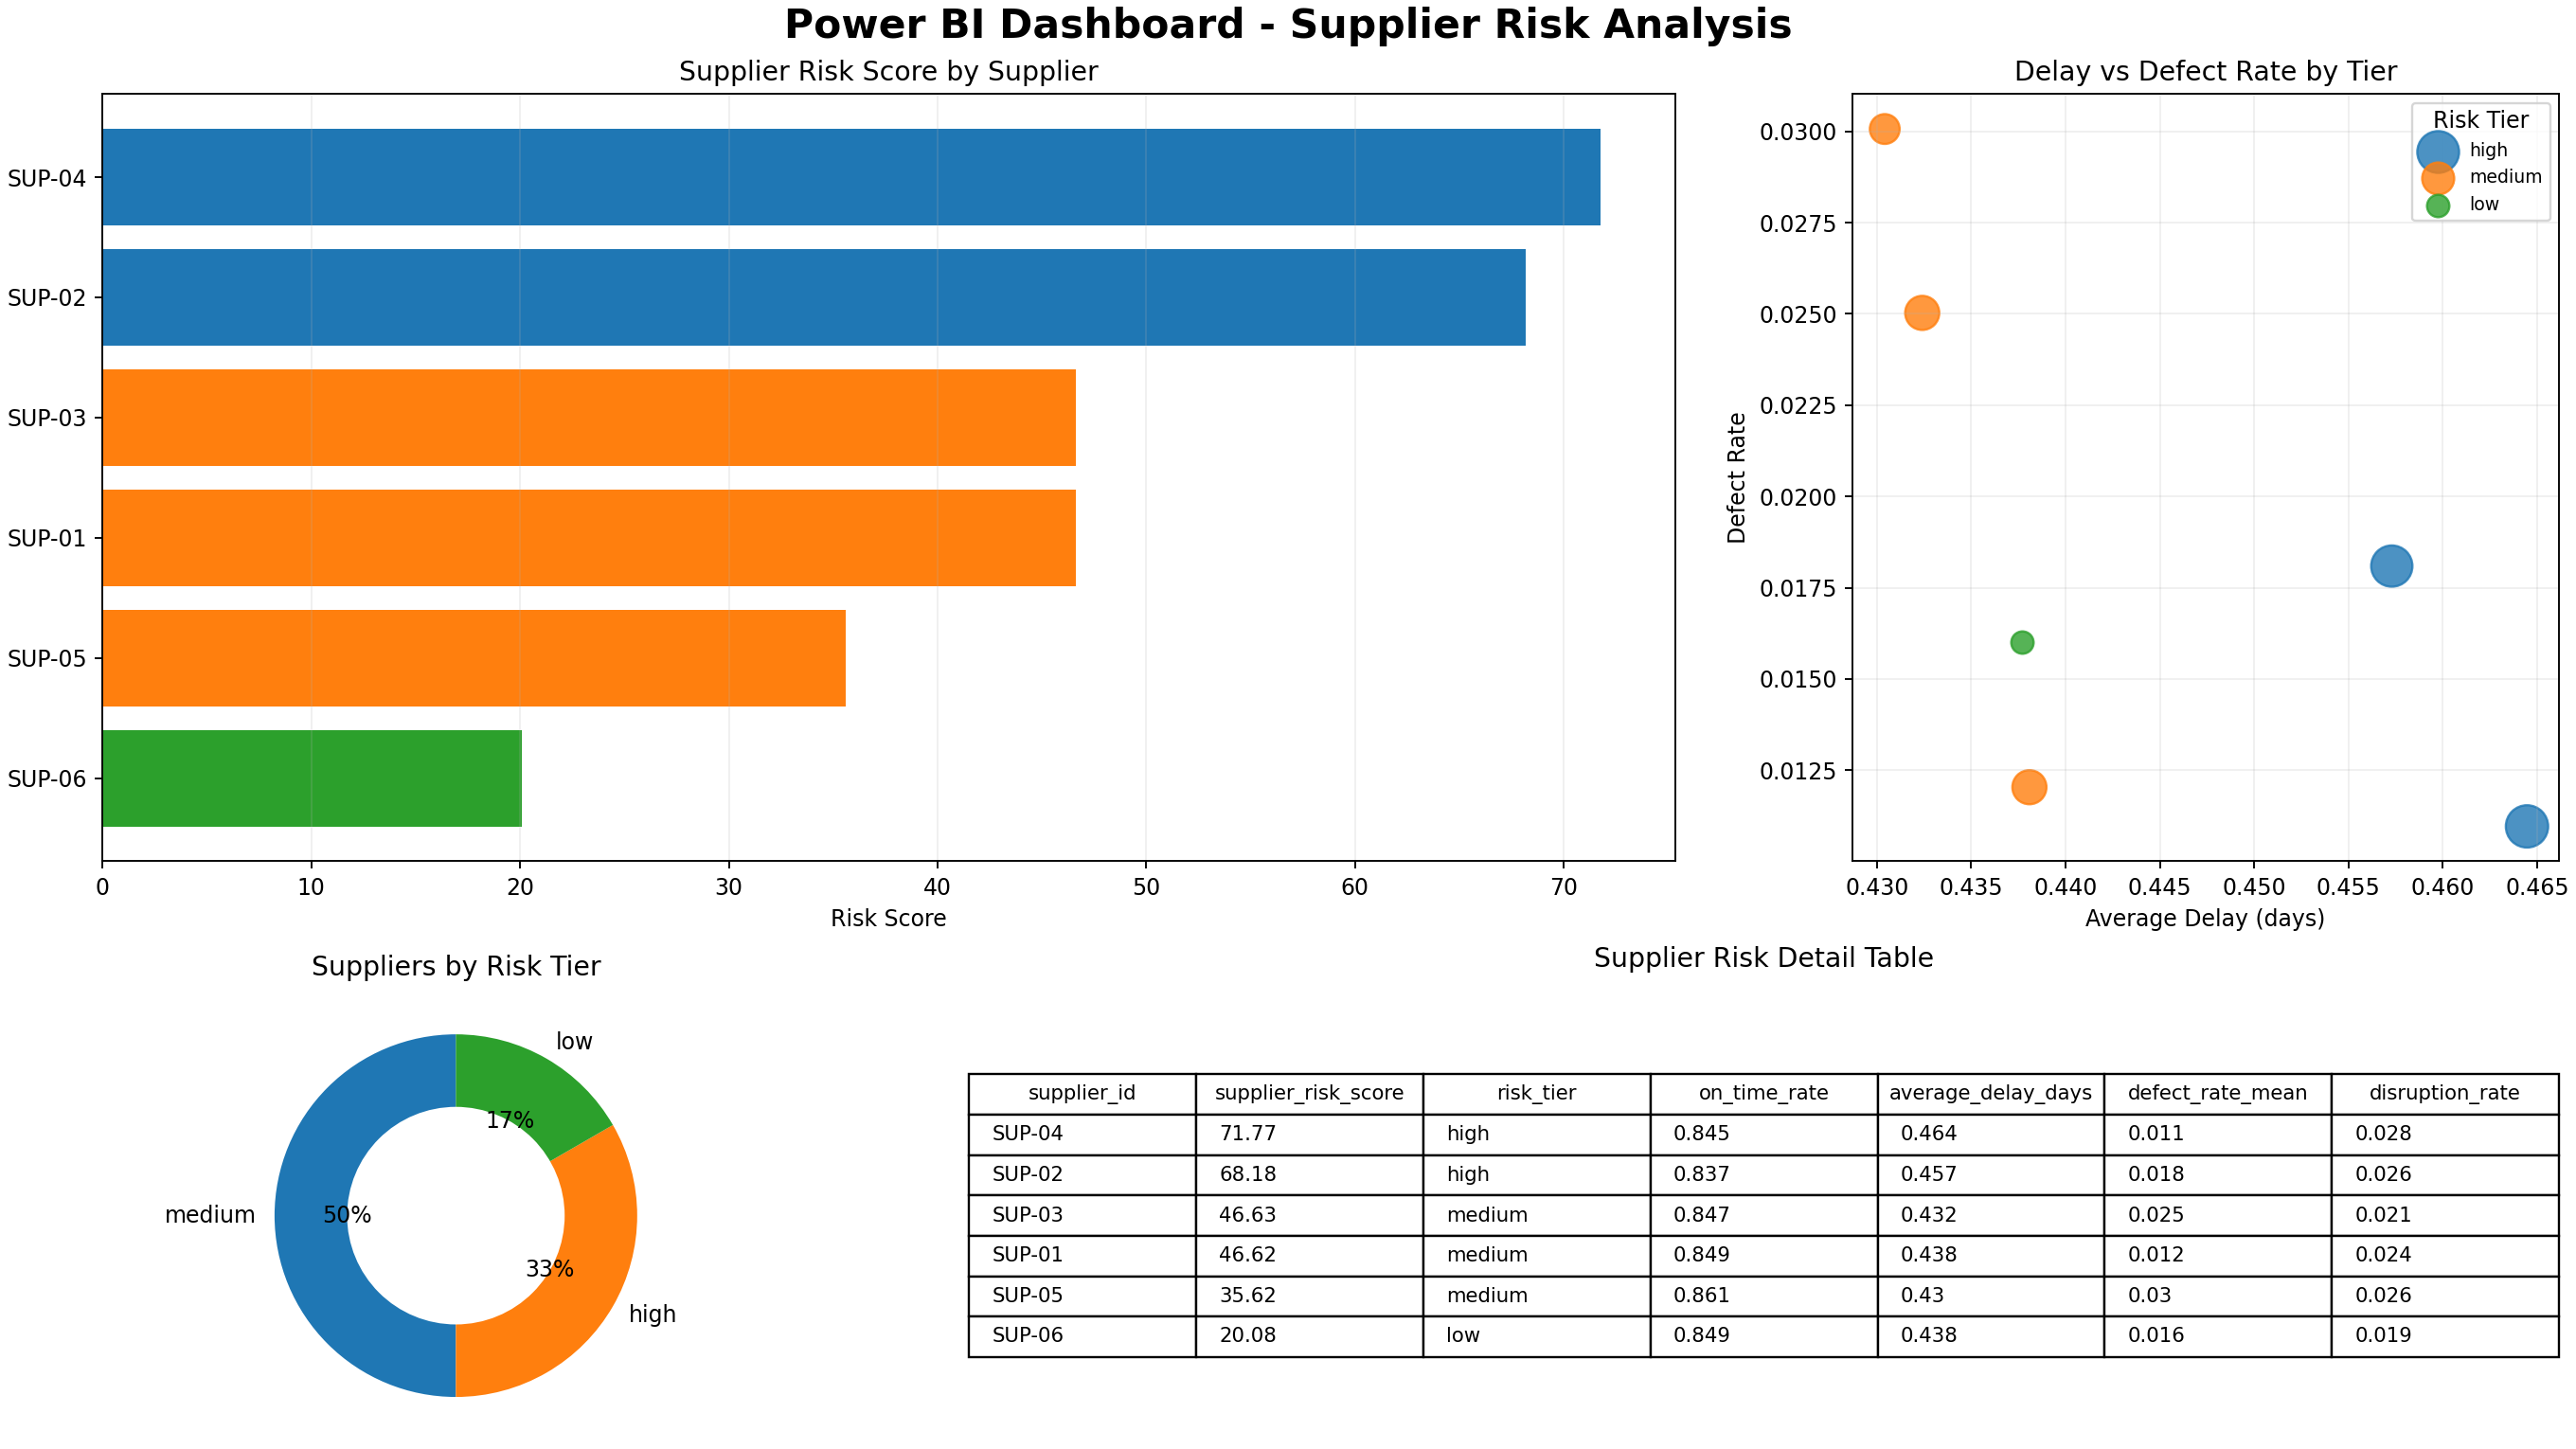

The page's visual inventory and layout, read from the dashboard file:
{"tool":"powerbi","page":{"name":"Supplier Risk Dashboard","canvas":[1280,720],"ordinal":1},"visuals":[{"type":"clusteredBarChart","fields":{"Category":["supplier_risk_scores.supplier_id"],"Y":["Sum(supplier_risk_scores.supplier_risk_score)"],"Series":["supplier_risk_scores.risk_tier"]},"box":[10,0,712.2,537.9],"z":0},{"type":"donutChart","fields":{"Category":["supplier_risk_scores.risk_tier"],"Y":["CountNonNull(supplier_risk_scores.supplier_id)"]},"box":[722.3,263.3,558,274.6],"z":1000},{"type":"scatterChart","fields":{"X":["Sum(supplier_risk_scores.average_delay_days)"],"Y":["Sum(supplier_risk_scores.defect_rate_mean)"],"Size":["Sum(supplier_risk_scores.supplier_risk_score)"],"Series":["supplier_risk_scores.risk_tier"],"Category":["supplier_risk_scores.supplier_id"]},"box":[722.3,0,558,263.3],"z":2000},{"type":"tableEx","fields":{"Values":["supplier_risk_scores.supplier_id","Sum(supplier_risk_scores.supplier_risk_score)","supplier_risk_scores.risk_tier","Sum(supplier_risk_scores.on_time_rate)","Sum(supplier_risk_scores.average_delay_days)","Sum(supplier_risk_scores.defect_rate_mean)","Sum(supplier_risk_scores.disruption_rate)"]},"box":[341.1,537.9,939.2,181.8],"z":3000}]}

Visuals, with their boxes in screenshot pixels (x1, y1, x2, y2), scaled from the page's 1280x720 canvas onto the 2576x1449 screenshot:
clusteredBarChart - supplier_risk_scores.supplier_id x Sum(supplier_risk_scores.supplier_risk_score): (20,0,1454,1082)
donutChart - supplier_risk_scores.risk_tier x CountNonNull(supplier_risk_scores.supplier_id): (1454,530,2575,1082)
scatterChart - Sum(supplier_risk_scores.average_delay_days) x Sum(supplier_risk_scores.defect_rate_mean): (1454,0,2575,530)
tableEx - supplier_risk_scores.supplier_id x Sum(supplier_risk_scores.supplier_risk_score): (687,1082,2575,1448)
